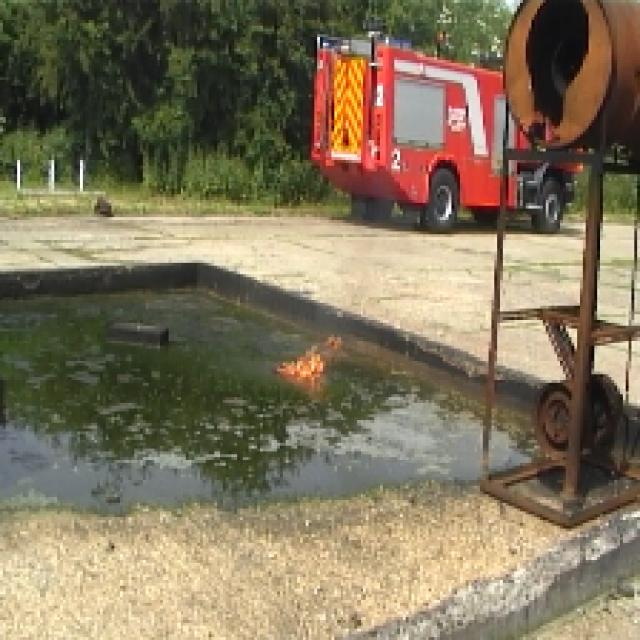fire: (277, 349, 325, 378)
